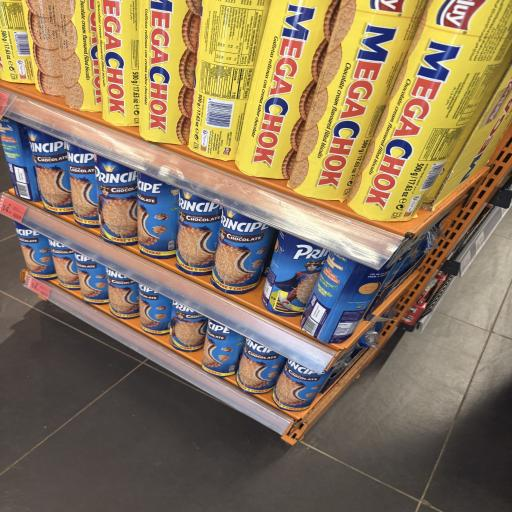prince: (302, 232, 393, 372), (158, 172, 220, 309)
